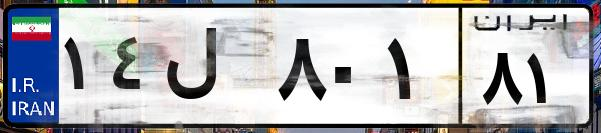0: (330, 28, 385, 110)
1: (385, 28, 445, 110), (57, 26, 110, 100), (525, 38, 570, 115)
4: (110, 28, 158, 98)
8: (270, 28, 330, 110), (475, 38, 525, 113)
ل: (158, 20, 270, 120)
